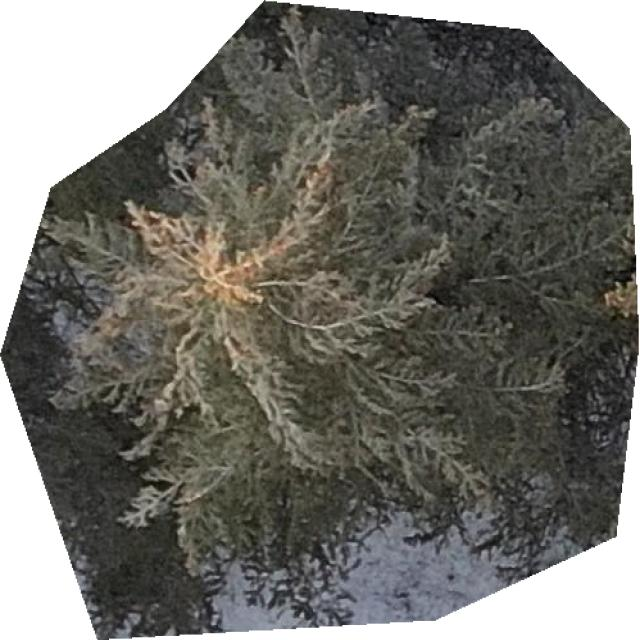spruce: (41, 2, 636, 624)
